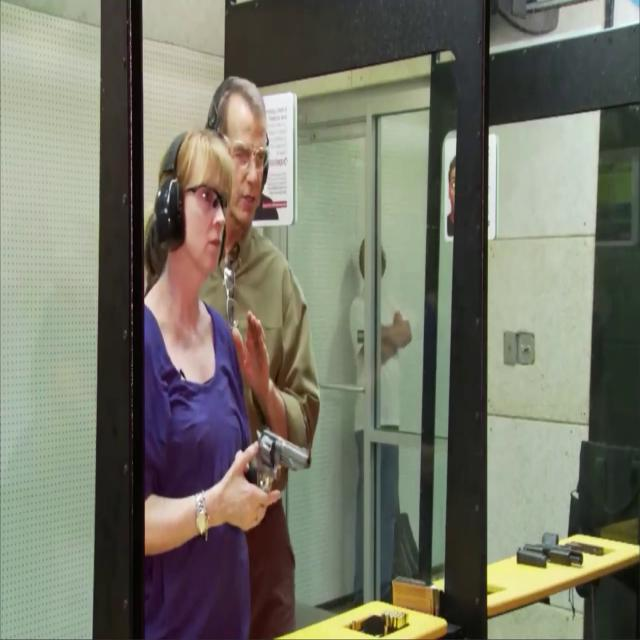Gun: (245, 426, 312, 508)
